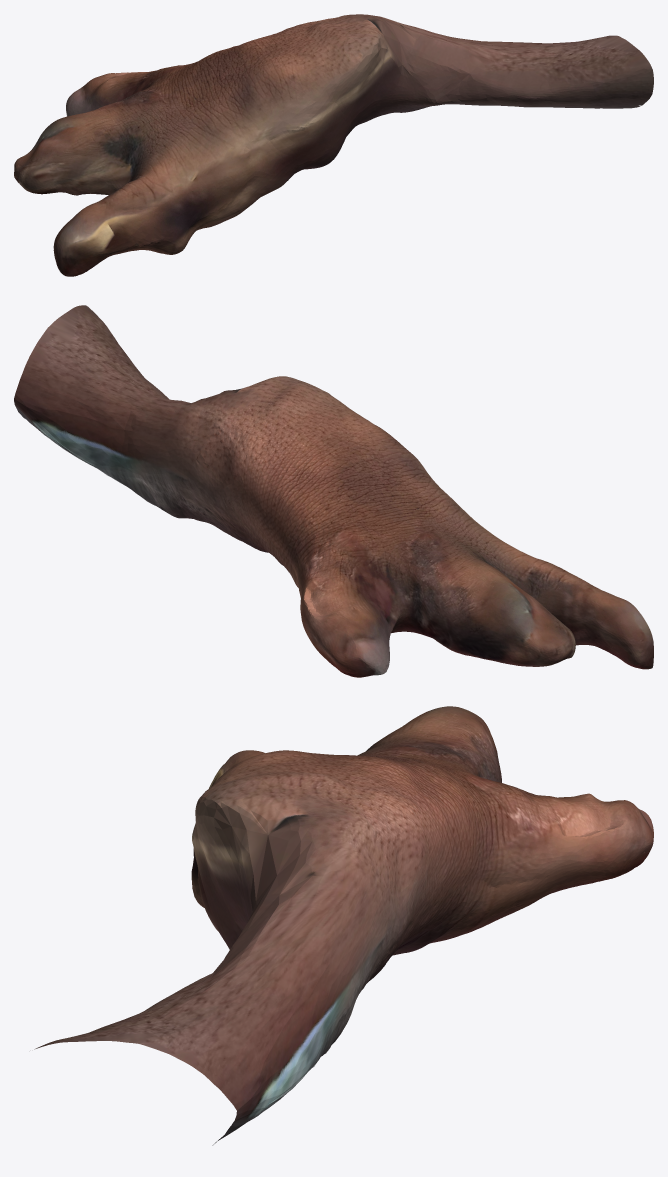
The model's file is Left Hand.glb.
3 views of the same model, one above another, from view 1: azimuth 30°, elevation 25°; view 2: azimuth 150°, elevation 25°; view 3: azimuth 270°, elevation 25° (orthographic). The views are drawn at different scales.
Bounding box in the file's own units: 0.2176 × 0.0662 × 0.1294.
1 material, 1 textured.
